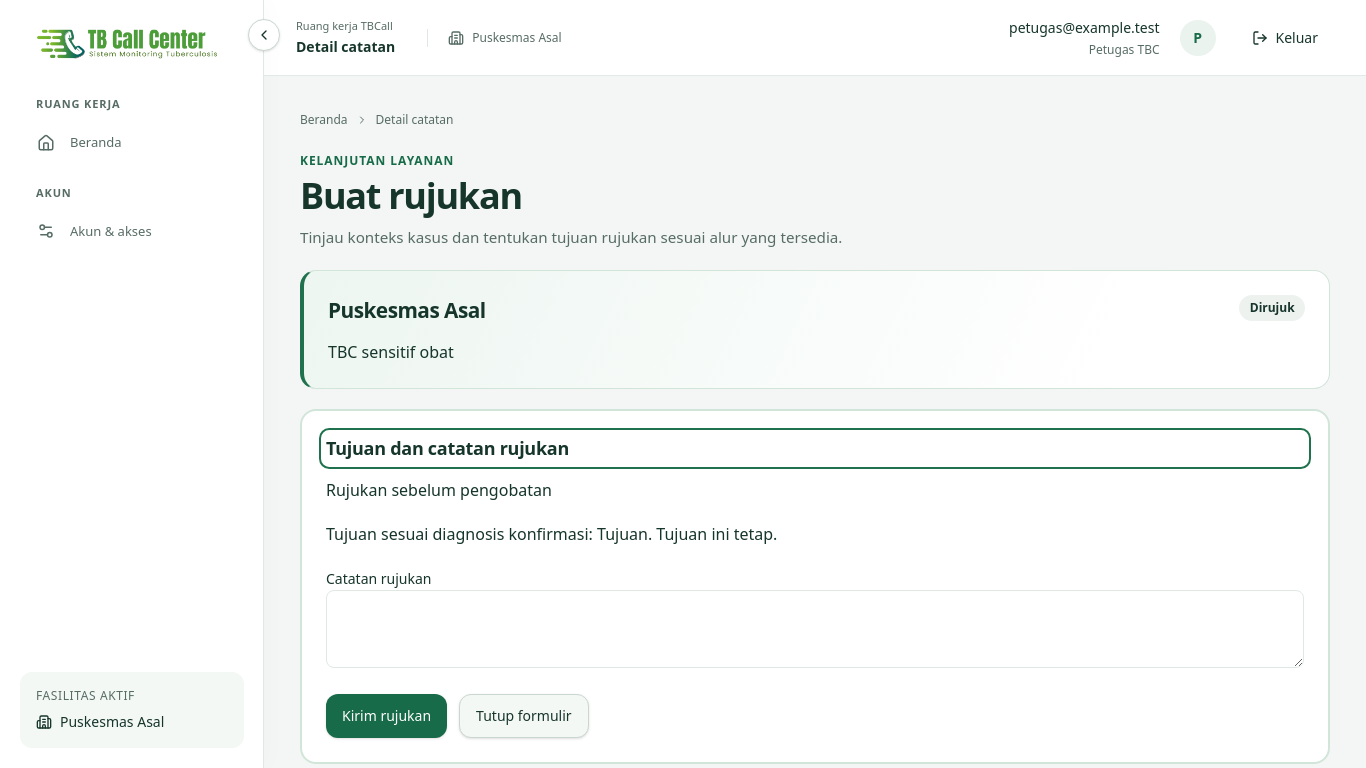
Scenario: referral send-only actor receives success without read-route navigation
Click the button "Kirim rujukan".
click(387, 716)  # box 326,694 -> 447,738
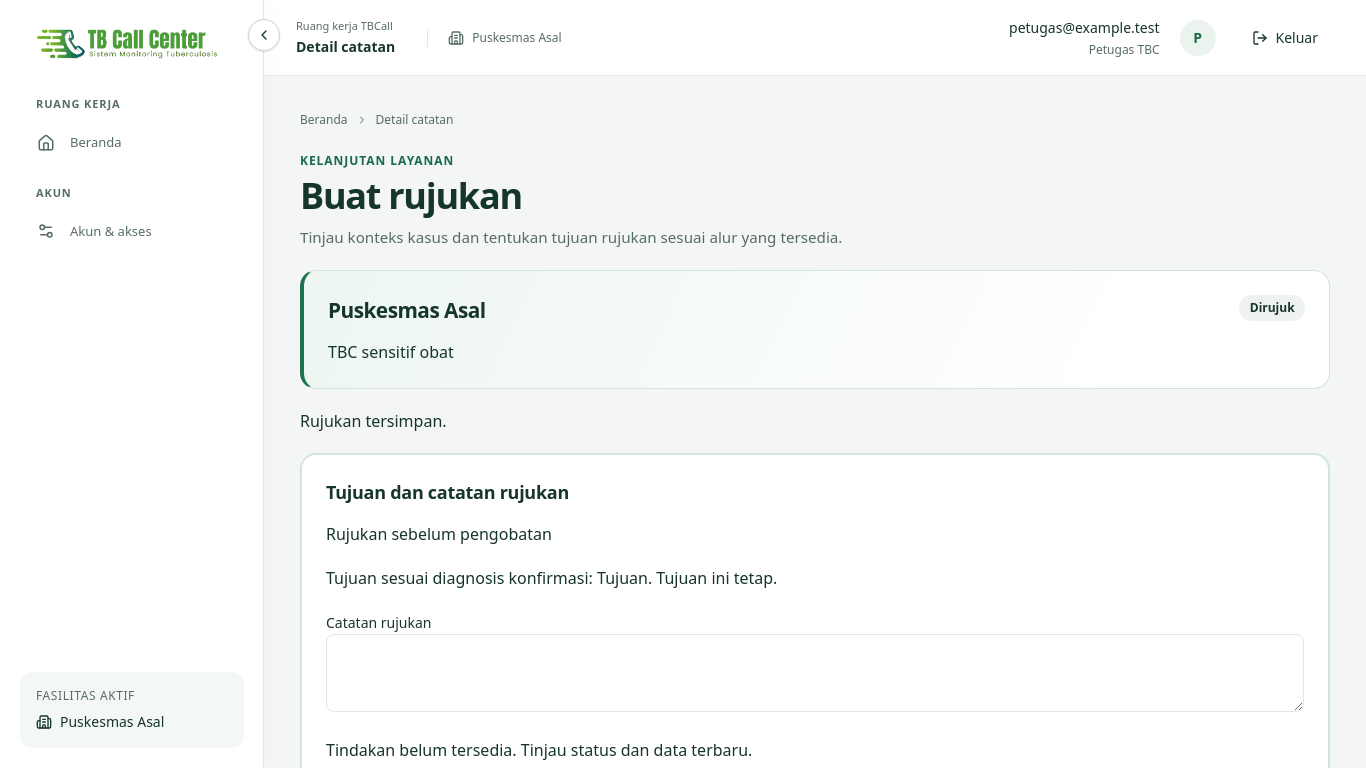
Expected: the text "Rujukan tersimpan." is shown, 300,410 -> 447,432
